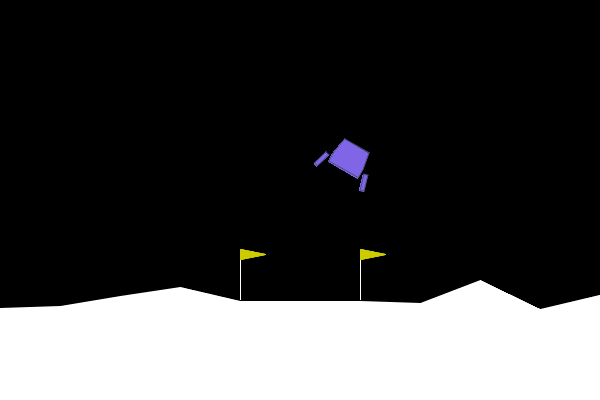lander: (312, 130, 384, 194)
